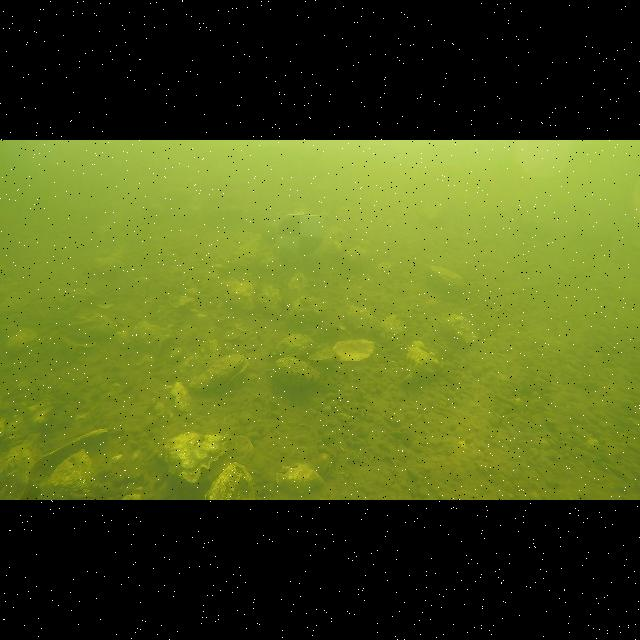Oyster-Closed: (164, 432, 232, 482), (39, 447, 102, 500), (0, 434, 41, 499), (190, 354, 249, 392), (177, 338, 223, 381), (205, 462, 255, 500), (115, 321, 174, 350), (66, 312, 116, 346), (405, 340, 442, 382), (272, 356, 320, 386), (276, 464, 324, 494), (275, 334, 318, 359), (426, 266, 464, 291), (224, 280, 254, 310), (446, 315, 478, 342), (289, 296, 322, 322), (348, 306, 380, 332), (258, 285, 281, 314), (381, 315, 406, 341), (288, 272, 309, 301)
Oyster-Open: (332, 339, 375, 361)
